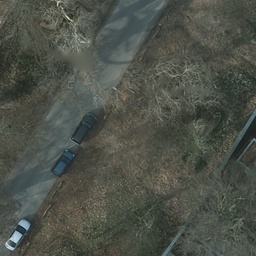car: (71, 111, 98, 142), (6, 218, 29, 251), (52, 149, 75, 174)
